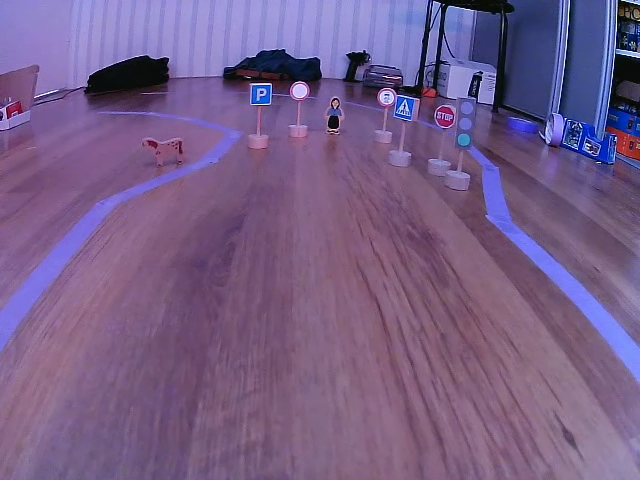fietspad: (378, 88, 393, 106)
groenlicht: (457, 96, 476, 150)
mens: (325, 96, 342, 135)
paard: (139, 136, 186, 168)
parkeerbord: (249, 81, 273, 108)
stopbord: (436, 105, 453, 129)
wegdicht: (290, 80, 308, 102)
zebrapad: (394, 94, 419, 119)
